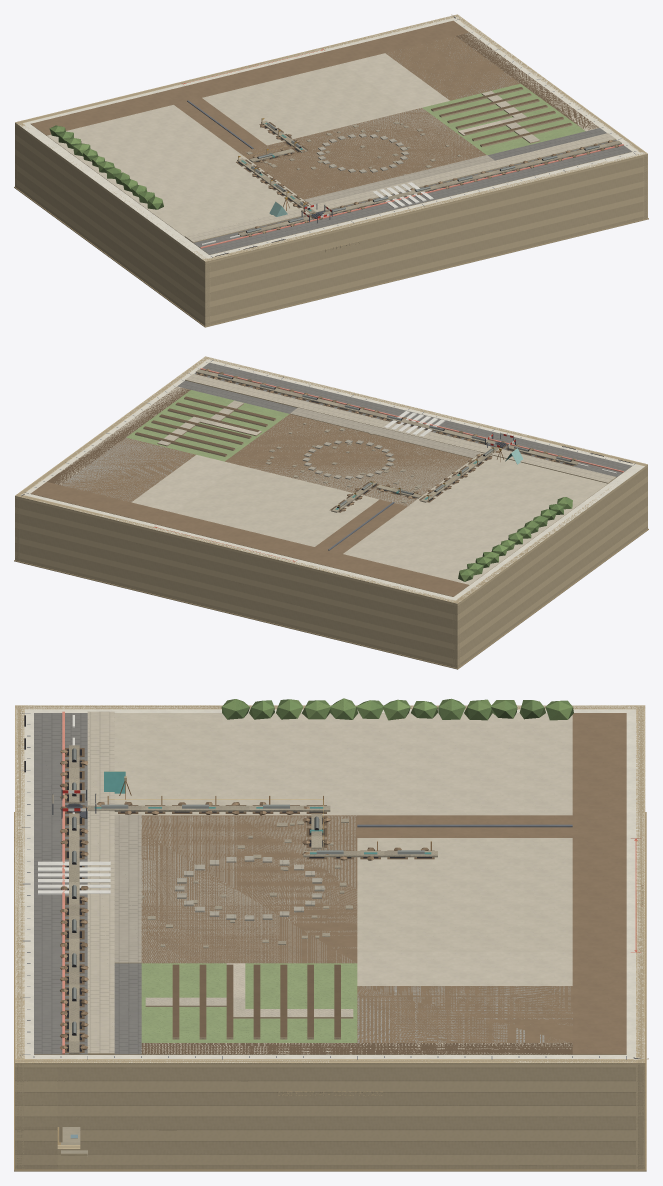
Rendered from terrain.glb.
3 views of the same model, one above another, from view 1: azimuth 30°, elevation 25°; view 2: azimuth 150°, elevation 25°; view 3: azimuth 270°, elevation 25° (orthographic). The views are drawn at different scales.
Visible parts, largest first — view 1: terrain__plinth__body, ground__2026__plates, ground__1946__plates, ground__1986__plates, ground__garden__plate, ground__garden_1946__plate, ground__alley_1946__plate, terrain__hedges__west, repair__street__patch, trench__street__cut, trench__creek__cut, repair__creek__patch; view 2: terrain__plinth__body, ground__2026__plates, ground__1946__plates, ground__1986__plates, ground__garden__plate, ground__garden_1946__plate, ground__alley_1946__plate, terrain__hedges__west, trench__street__cut, repair__street__patch, trench__creek__cut, repair__creek__patch; view 3: terrain__plinth__body, ground__2026__plates, ground__1946__plates, ground__1986__plates, ground__garden__plate, terrain__hedges__west, ground__alley_1946__plate, ground__garden_1946__plate, trench__street__cut, repair__street__patch, repair__creek__patch, trench__creek__cut (+3 smaller).
Part boxes in pixels (bbox=[...]): terrain__plinth__body: bbox=[14, 14, 648, 327]; ground__2026__plates: bbox=[47, 53, 623, 248]; ground__1946__plates: bbox=[30, 20, 632, 254]; ground__1986__plates: bbox=[185, 32, 631, 254]; ground__garden__plate: bbox=[422, 83, 585, 155]; ground__garden_1946__plate: bbox=[431, 87, 572, 147]; ground__alley_1946__plate: bbox=[174, 98, 266, 152]; terrain__hedges__west: bbox=[49, 125, 163, 209]; repair__street__patch: bbox=[238, 140, 621, 236]; trench__street__cut: bbox=[238, 140, 620, 236]; trench__creek__cut: bbox=[236, 122, 309, 211]; repair__creek__patch: bbox=[237, 121, 315, 213]; terrain__plinth__body: bbox=[14, 356, 648, 669]; ground__2026__plates: bbox=[131, 368, 623, 584]; ground__1946__plates: bbox=[30, 387, 631, 596]; ground__1986__plates: bbox=[54, 362, 632, 506]; ground__garden__plate: bbox=[126, 390, 289, 461]; ground__garden_1946__plate: bbox=[135, 396, 276, 456]; ground__alley_1946__plate: bbox=[315, 499, 407, 553]; terrain__hedges__west: bbox=[458, 497, 572, 581]; trench__street__cut: bbox=[196, 369, 578, 465]; repair__street__patch: bbox=[195, 369, 579, 465]; trench__creek__cut: bbox=[330, 448, 499, 512]; repair__creek__patch: bbox=[331, 446, 498, 512]; terrain__plinth__body: bbox=[14, 705, 646, 1171]; ground__2026__plates: bbox=[38, 711, 572, 1054]; ground__1946__plates: bbox=[34, 713, 626, 1054]; ground__1986__plates: bbox=[34, 711, 572, 1054]; ground__garden__plate: bbox=[141, 963, 357, 1042]; terrain__hedges__west: bbox=[221, 698, 573, 720]; ground__alley_1946__plate: bbox=[357, 815, 572, 837]; ground__garden_1946__plate: bbox=[172, 964, 340, 1039]; trench__street__cut: bbox=[60, 748, 88, 1052]; repair__street__patch: bbox=[69, 745, 79, 1054]; repair__creek__patch: bbox=[88, 805, 437, 857]; trench__creek__cut: bbox=[97, 801, 434, 860].
Size of the model in its own units: 31.74 by 5.29 by 23.57.
Materials: 9 (9 with a texture image).
